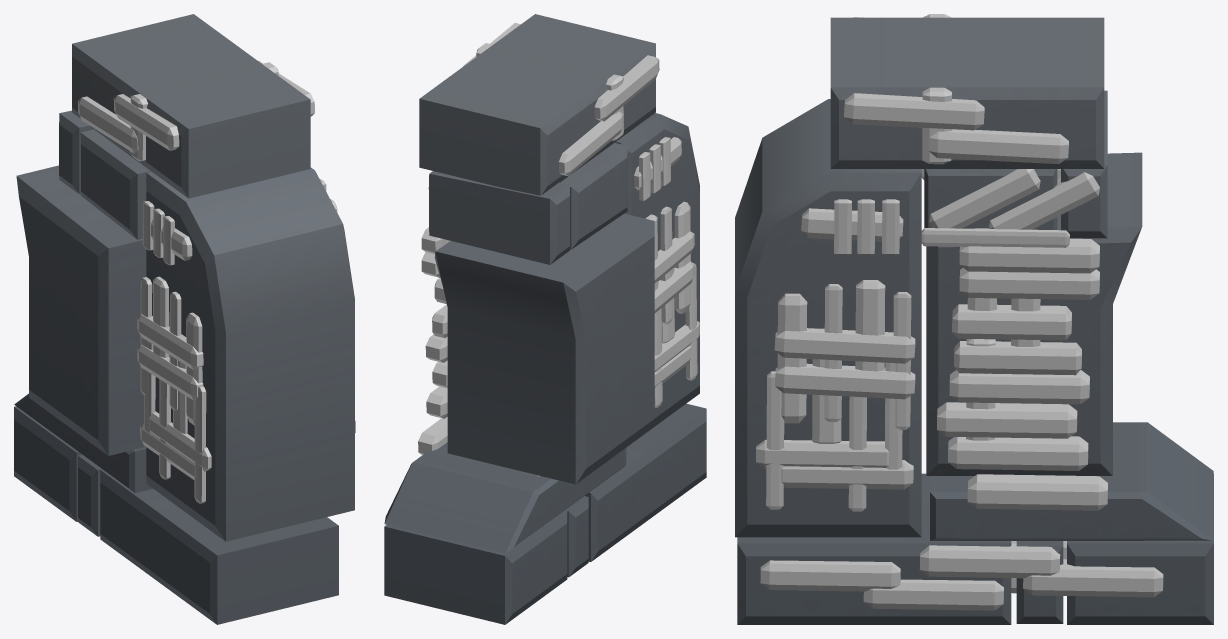
File: muro2.fbx
3 views of the same model, side by side, from view 1: azimuth 30°, elevation 25°; view 2: azimuth 150°, elevation 25°; view 3: azimuth 270°, elevation 25° (orthographic). The views are drawn at different scales.
Parts seen in each view (by area): view 1: group103; view 2: group103; view 3: group103.
Part boxes in pixels (x1,y1,x2,y2): group103: (14,14,355,624); group103: (384,14,706,624); group103: (735,14,1213,624).
Size of the model in its own units: 1839 by 4405 by 3514.
